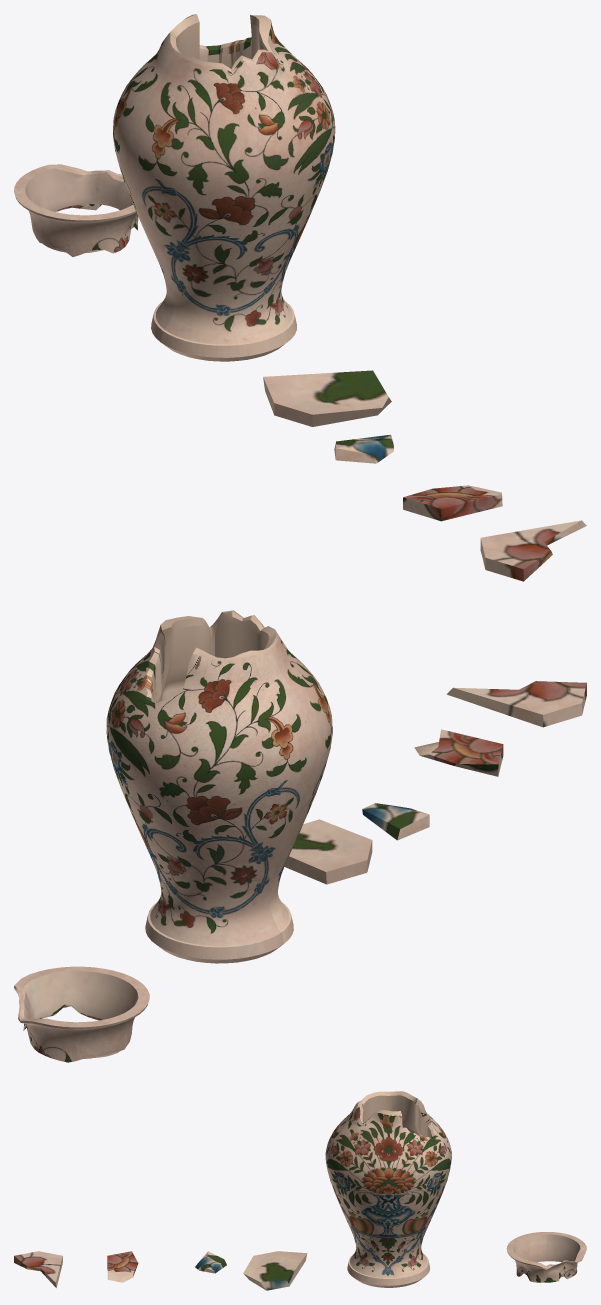
File: Vase_Cacé.fbx
The picture shows the model from 3 angles, top to bottom: view 1: azimuth 30°, elevation 25°; view 2: azimuth 150°, elevation 25°; view 3: azimuth 270°, elevation 25°; orthographic projection. The views are drawn at different scales.
Visible parts, largest first — view 1: pCube6, polySurface2; view 2: pCube6, polySurface2; view 3: pCube6, polySurface2.
Boxes of the visible parts, left/top/right/bottom form: pCube6: left=113, top=14, right=586, bottom=581; polySurface2: left=14, top=164, right=138, bottom=256; pCube6: left=106, top=610, right=586, bottom=963; polySurface2: left=14, top=966, right=149, bottom=1062; pCube6: left=14, top=1091, right=451, bottom=1290; polySurface2: left=506, top=1232, right=586, bottom=1282.
Bounding box in the file's own units: 3.13 × 4.75 × 14.2.
